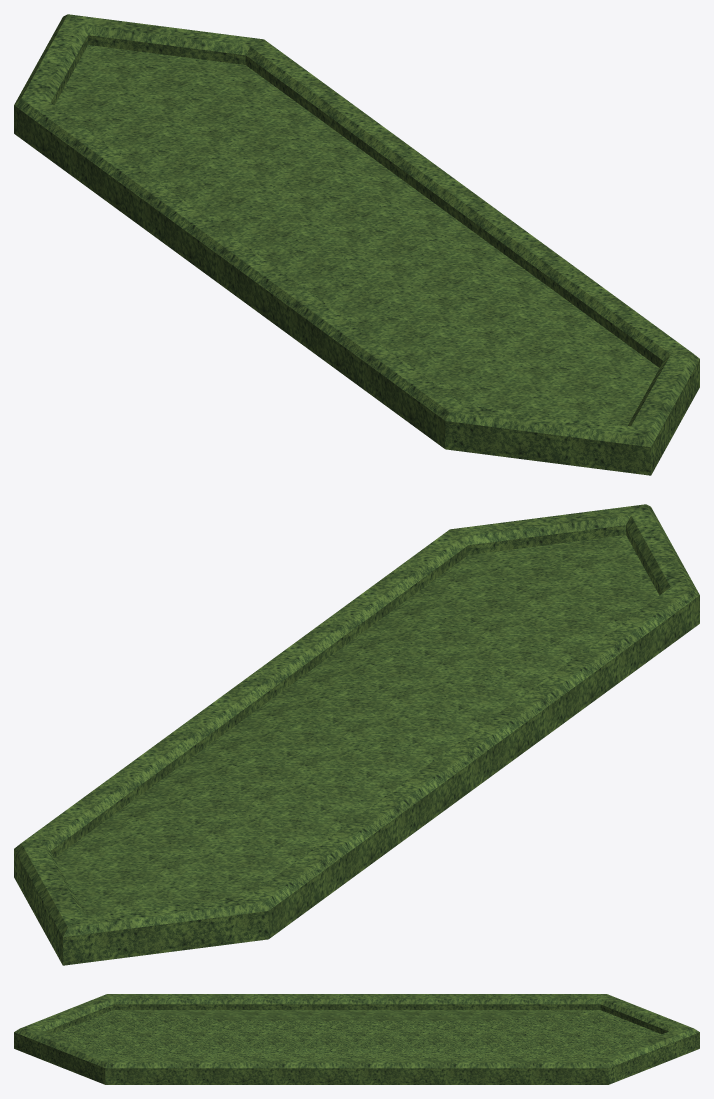
The model's file is SM_Morin_Aiuola_Bosso.fbx.
3 renders of one model, top to bottom at view 1: azimuth 30°, elevation 25°; view 2: azimuth 150°, elevation 25°; view 3: azimuth 270°, elevation 25°, orthographic. The views are drawn at different scales.
Visible parts, largest first — view 1: SM_Morin_Aiuola_Bosso; view 2: SM_Morin_Aiuola_Bosso; view 3: SM_Morin_Aiuola_Bosso.
Boxes of the visible parts, x1,y1,x2,y2 form: SM_Morin_Aiuola_Bosso: [14, 14, 699, 475]; SM_Morin_Aiuola_Bosso: [14, 504, 699, 965]; SM_Morin_Aiuola_Bosso: [14, 994, 699, 1084].
Size of what is drawn, in the model's own units: 300 by 1200 by 39.
Materials: 1 (1 with a texture image).
